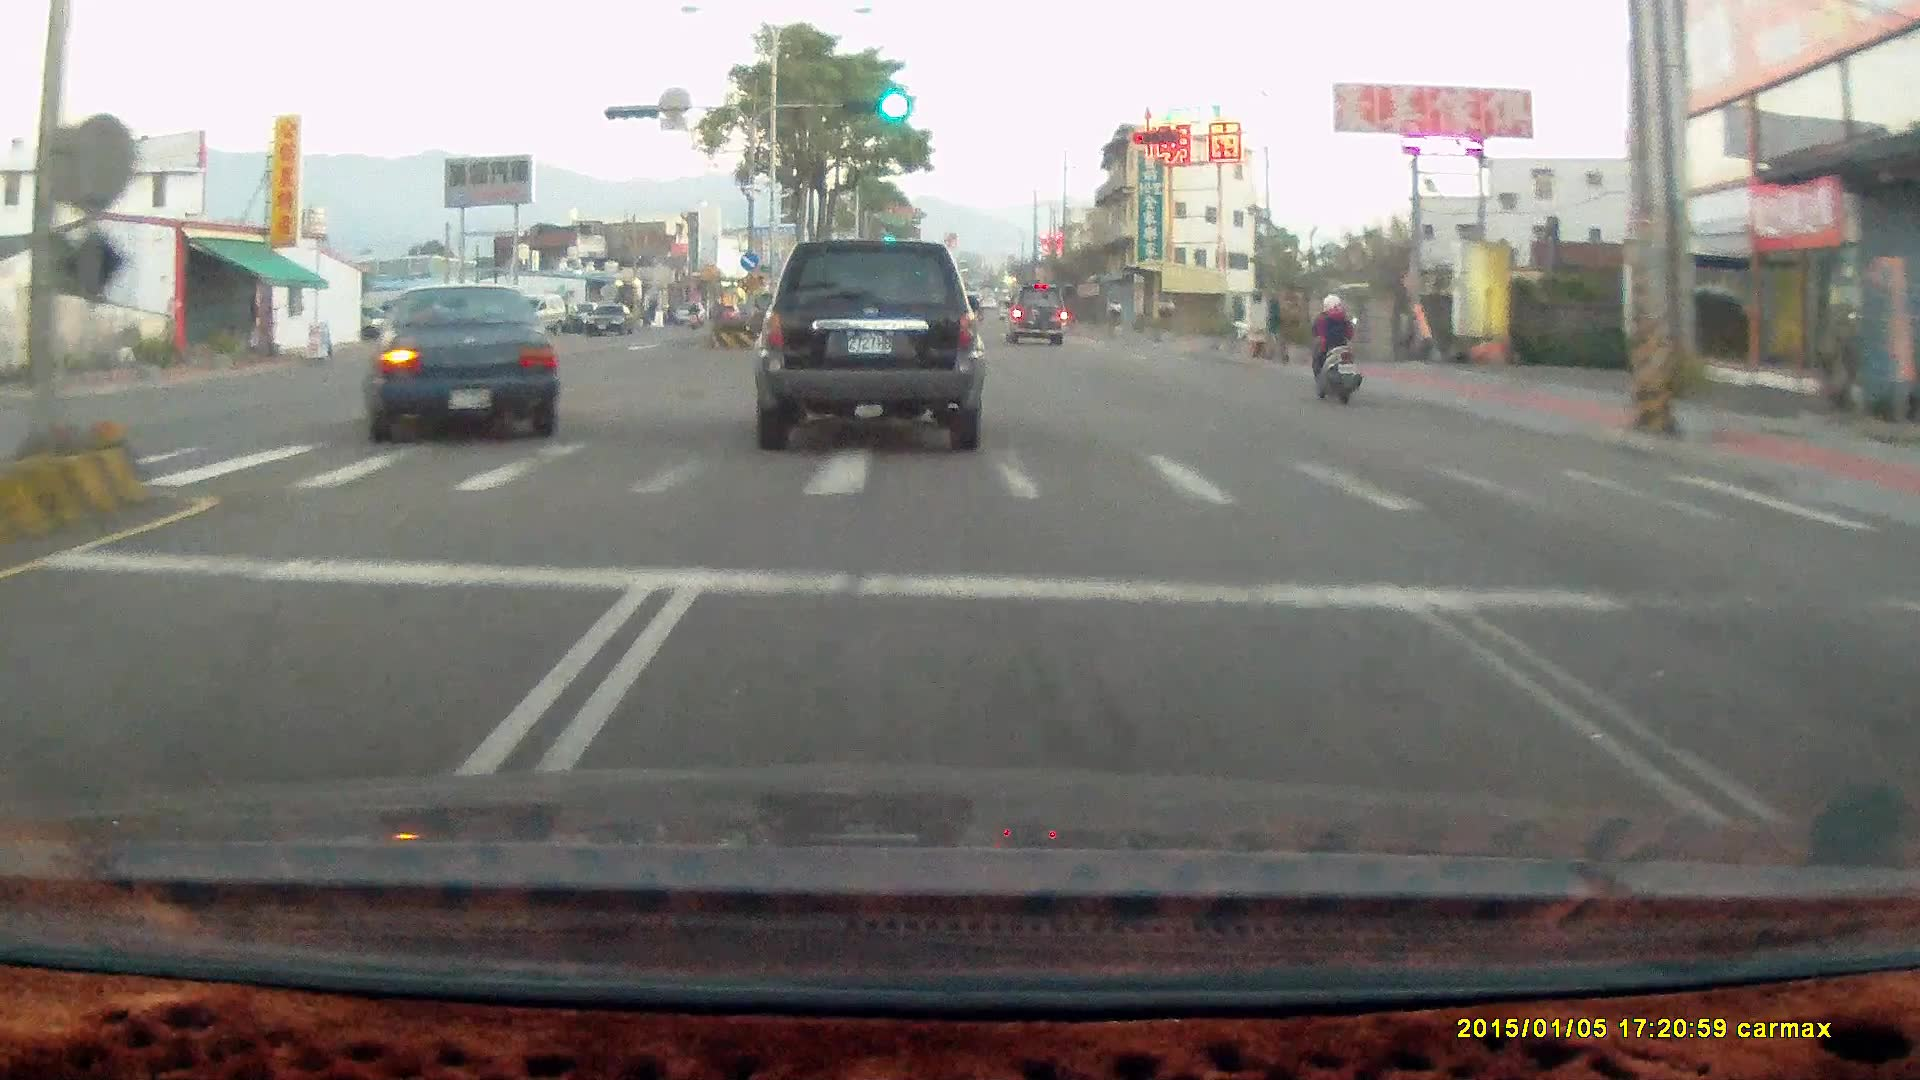rider: (1295, 283, 1374, 412), (1304, 288, 1363, 404)
vehicle: (758, 244, 988, 456), (753, 238, 982, 450), (359, 279, 558, 444), (366, 279, 559, 445), (1005, 285, 1071, 352), (1002, 284, 1066, 345), (497, 293, 568, 335), (582, 301, 633, 335)
